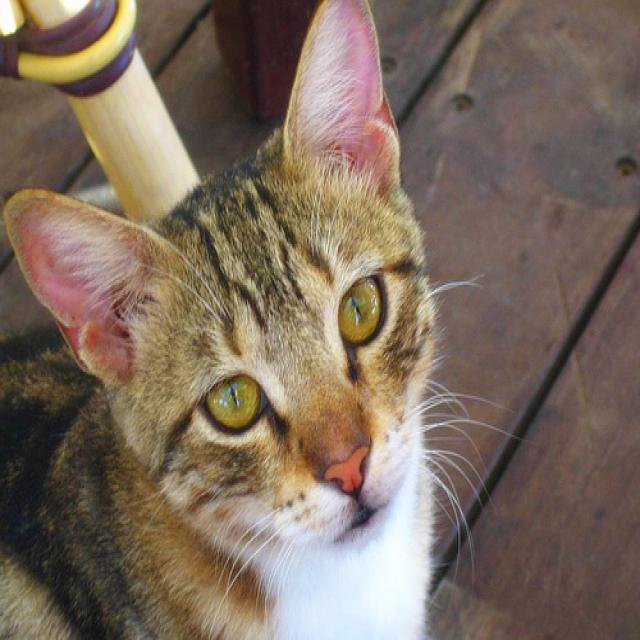left eye: (336, 270, 386, 346)
